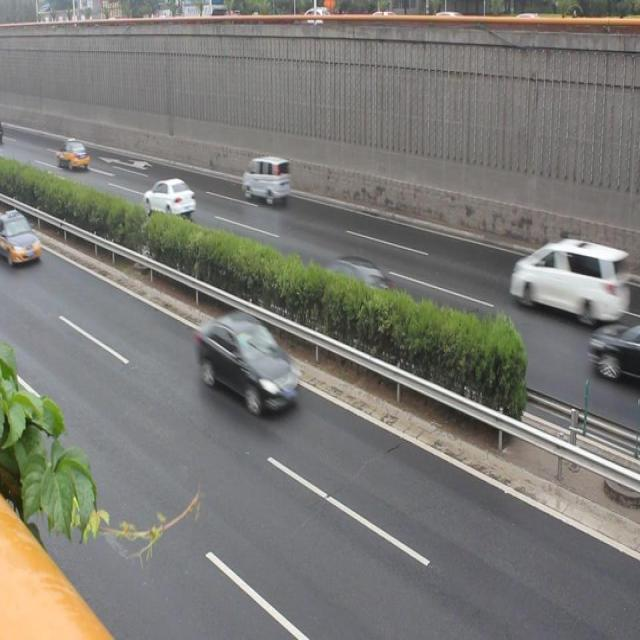car: (194, 308, 304, 417), (316, 248, 394, 316), (584, 315, 640, 391), (143, 174, 199, 224)
truck: (509, 231, 619, 332), (237, 154, 290, 204)
